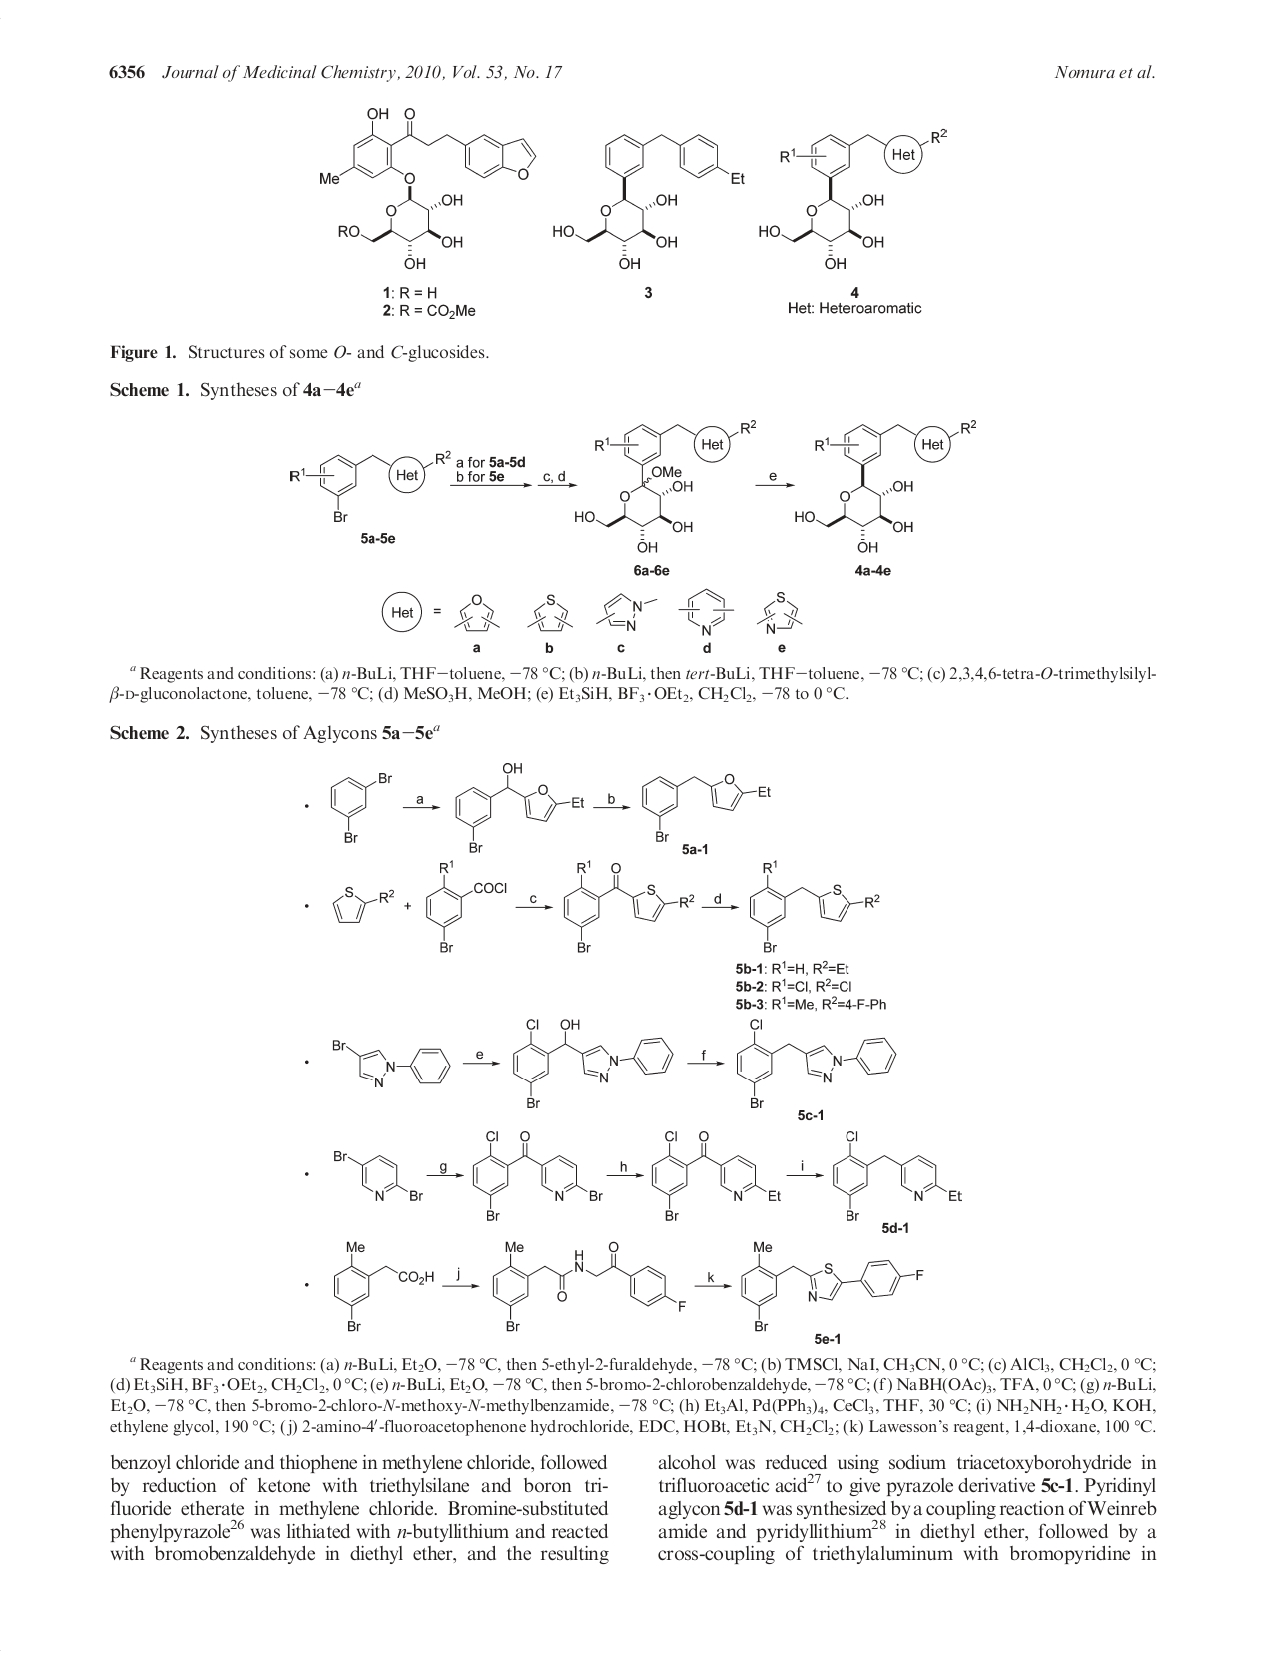exist_molecular: (315, 102, 539, 275), (548, 128, 747, 274), (754, 124, 952, 270), (790, 411, 983, 556), (573, 418, 758, 555), (488, 1241, 688, 1334), (332, 855, 509, 955), (741, 1239, 927, 1333), (733, 1015, 902, 1110), (515, 1016, 673, 1114), (561, 856, 698, 956), (289, 443, 453, 524), (648, 1129, 785, 1226), (455, 754, 586, 852), (747, 859, 883, 954), (828, 1126, 964, 1221), (469, 1129, 604, 1223), (640, 763, 773, 844), (331, 1237, 432, 1337), (324, 1032, 453, 1089), (328, 762, 396, 846), (331, 1145, 426, 1205), (678, 584, 735, 638), (596, 592, 658, 634), (755, 589, 805, 638), (527, 592, 574, 638), (449, 593, 501, 636)
